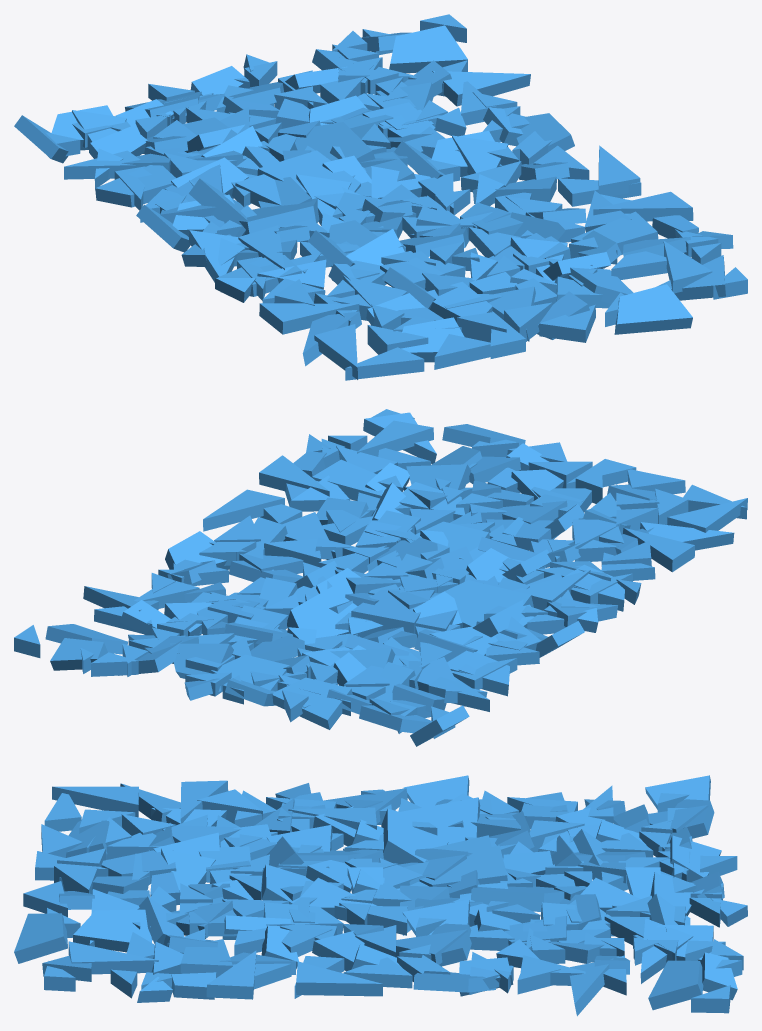
The model's file is BrakedIce.fbx.
The picture shows the model from 3 angles, top to bottom: view 1: azimuth 30°, elevation 25°; view 2: azimuth 150°, elevation 25°; view 3: azimuth 270°, elevation 25°; orthographic projection. The views are drawn at different scales.
Visible parts, largest first — view 1: Cube.013; view 2: Cube.013; view 3: Cube.013.
Boxes of the visible parts, bbox=[...] form: Cube.013: bbox=[14, 14, 747, 380]; Cube.013: bbox=[14, 409, 747, 746]; Cube.013: bbox=[14, 775, 747, 1016].
Bounding box in the file's own units: 1704 × 175 × 2392.
